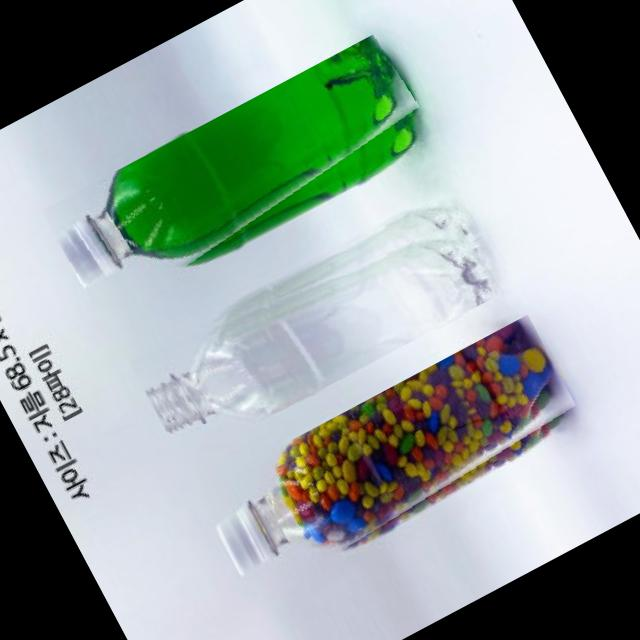plastic bottle: (41, 30, 438, 322), (191, 313, 587, 604), (128, 186, 506, 462)
